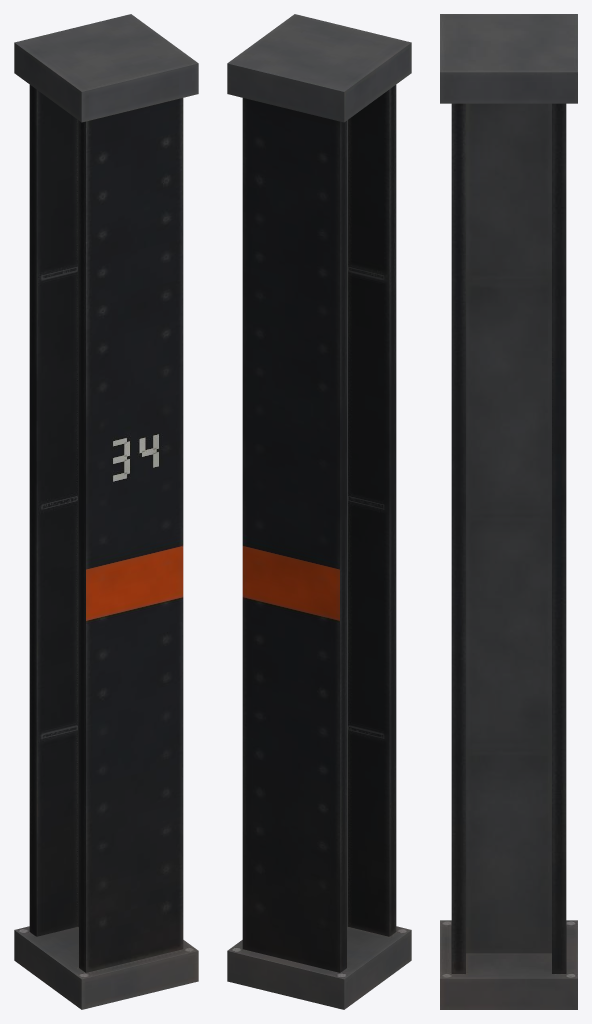
The model's file is rib_pillar_c.glb.
The picture shows the model from 3 angles, left to right: view 1: azimuth 30°, elevation 25°; view 2: azimuth 150°, elevation 25°; view 3: azimuth 270°, elevation 25°; orthographic projection. The views are drawn at different scales.
Visible parts, largest first — view 1: rib_pillar_c; view 2: rib_pillar_c; view 3: rib_pillar_c.
Part boxes in pixels (x1,y1,x2,y2): rib_pillar_c: (14,14,198,1009); rib_pillar_c: (227,14,411,1009); rib_pillar_c: (440,14,577,1009).
Size of the model in its own units: 0.48 by 3.6 by 0.48.
Materials: 1 (1 with a texture image).
